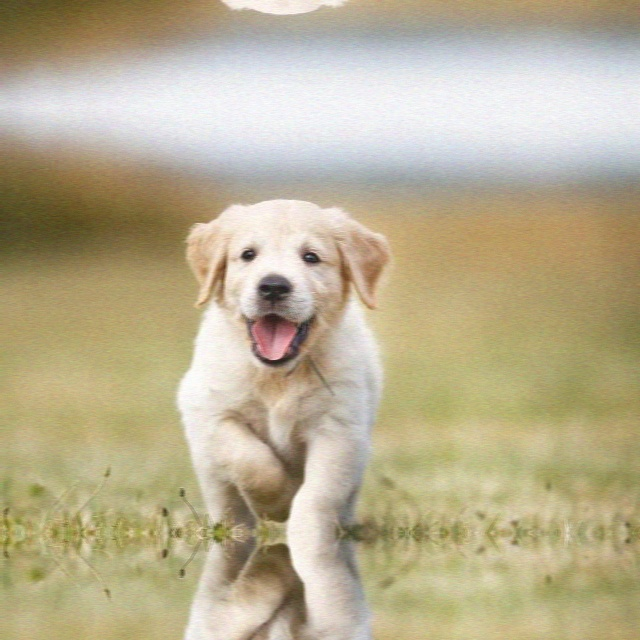dog: (159, 185, 399, 533), (159, 533, 399, 640), (159, 0, 399, 27)
